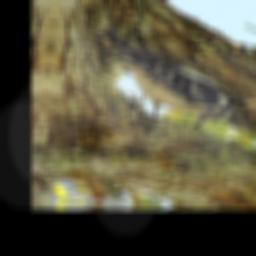Woodpecker: (87, 31, 250, 131)
